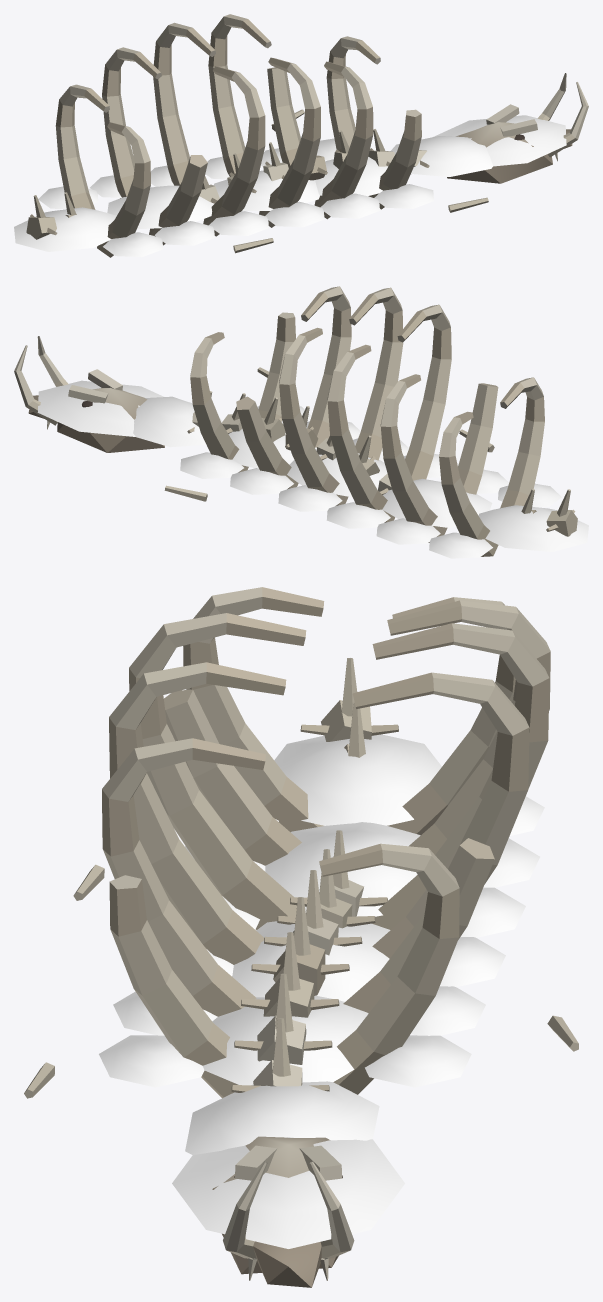
The model's file is huesos_costillas_ligero.glb.
The picture shows the model from 3 angles, top to bottom: view 1: azimuth 30°, elevation 25°; view 2: azimuth 150°, elevation 25°; view 3: azimuth 270°, elevation 25°; orthographic projection. The views are drawn at different scales.
Parts seen in each view (by area): view 1: huesos_costillas, huesos_costillas_arena; view 2: huesos_costillas, huesos_costillas_arena; view 3: huesos_costillas, huesos_costillas_arena.
Boxes of the visible parts, x1,y1,x2,y2 form: huesos_costillas: (26, 14, 588, 257); huesos_costillas_arena: (14, 115, 566, 257); huesos_costillas: (14, 286, 577, 556); huesos_costillas_arena: (37, 380, 588, 558); huesos_costillas: (24, 587, 578, 1287); huesos_costillas_arena: (99, 734, 544, 1248).
Size of the model in its own units: 19.4 by 6.49 by 8.57.
